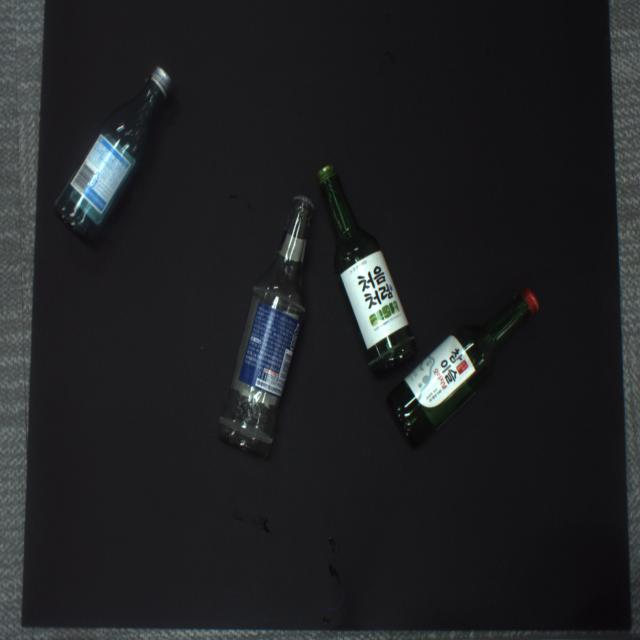beer-bottle: (219, 196, 314, 456)
soju-bottle: (388, 287, 538, 443), (317, 166, 415, 374), (54, 67, 171, 241)
